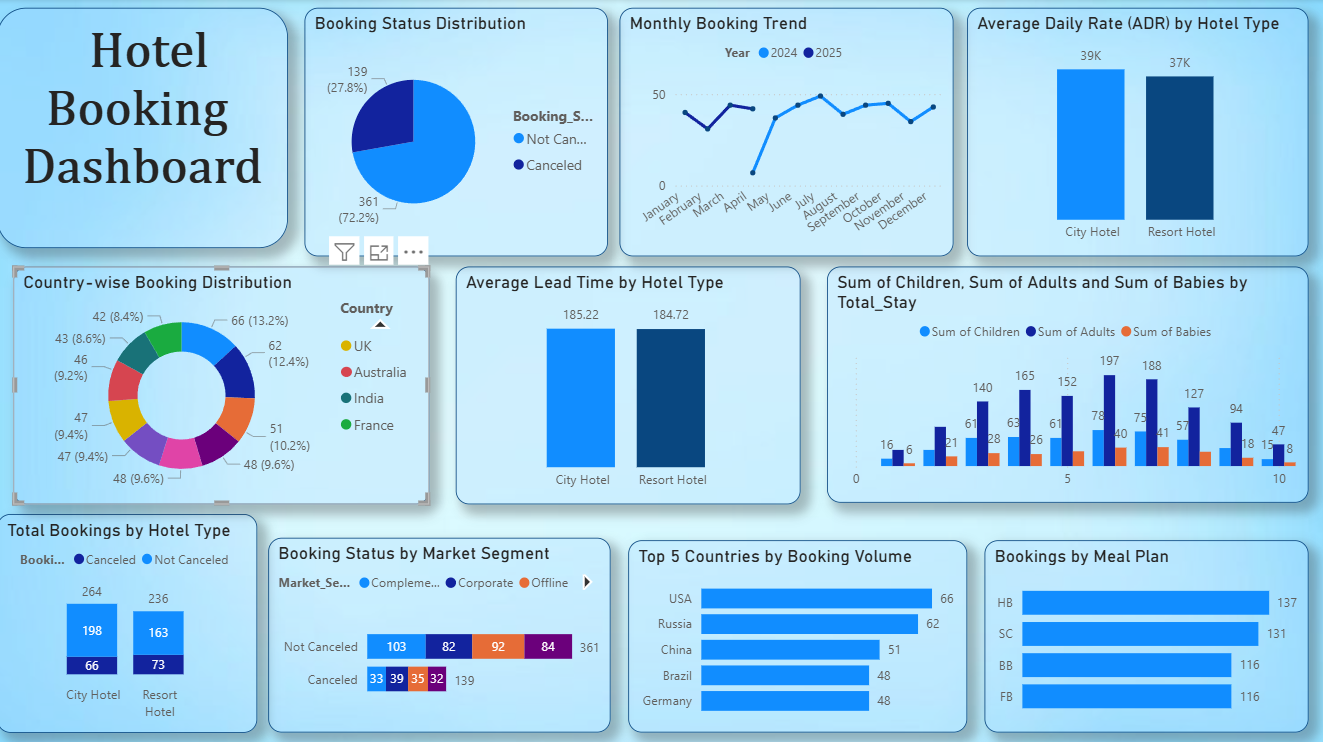

The page's visual inventory and layout, read from the dashboard file:
{"tool":"powerbi","page":{"name":"Page 2","canvas":[1280,720],"ordinal":1},"visuals":[{"type":"columnChart","title":"Total Bookings by Hotel Type","fields":{"Y":["CountNonNull(Sheet1.Hotel_Type)"],"Category":["Sheet1.Hotel_Type"],"Series":["Sheet1.Booking_Status"]},"box":[0,8.5,247.6,240.2],"z":0},{"type":"pieChart","title":"Booking Status Distribution","fields":{"Category":["Sheet1.Booking_Status"],"Y":["CountNonNull(Sheet1.Booking_Status)"]},"box":[262.1,8.9,292.5,239.3],"z":1000},{"type":"lineChart","title":"Monthly Booking Trend","fields":{"Category":["Sheet1.Arrival_Date.Variation.Date Hierarchy.Month"],"Y":["CountNonNull(Sheet1.Booking_Status)"],"Series":["Sheet1.Arrival_Date.Variation.Date Hierarchy.Year"]},"box":[569.8,8.9,321.6,239.3],"z":2000},{"type":"donutChart","title":"Country-wise Booking Distribution","fields":{"Category":["Sheet1.Country"],"Y":["CountNonNull(Sheet1.Booking_Status)"]},"box":[0,258.5,401.2,229.3],"z":3000},{"type":"clusteredColumnChart","title":"Average Lead Time by Hotel Type","fields":{"Category":["Sheet1.Hotel_Type"],"Y":["Avg(Sheet1.Lead_Time)"]},"box":[425.5,258.3,333,229.2],"z":4000},{"type":"barChart","title":"Booking Status by Market Segment","fields":{"Y":["CountNonNull(Sheet1.Booking_Status)"],"Series":["Sheet1.Market_Segment"],"Category":["Sheet1.Booking_Status"]},"box":[8.9,505.3,429.3,195],"z":5000},{"type":"barChart","title":"Bookings by Meal Plan","fields":{"Category":["Sheet1.Meal"],"Y":["Count(Sheet1.Booking_ID)"]},"box":[911.8,505.3,353.3,195],"z":6000},{"type":"barChart","title":"Top 5 Countries by Booking Volume ","fields":{"Category":["Sheet1.Country"],"Y":["CountNonNull(Sheet1.Booking_Status)"]},"box":[458.4,505.3,431.8,195],"z":7000},{"type":"columnChart","title":"Average Daily Rate (ADR) by Hotel Type","fields":{"Category":["Sheet1.Hotel_Type"],"Y":["Sum(Sheet1.ADR)"]},"box":[919.4,8.9,345.7,239.3],"z":8000},{"type":"clusteredColumnChart","fields":{"Y":["Sum(Sheet1.Children)","Sum(Sheet1.Adults)","Sum(Sheet1.Babies)"],"Category":["Sheet1.Total_Stay"]},"box":[776.3,257.1,488.8,229.2],"z":9000}]}

Visuals, with their boxes in screenshot pixels (x1, y1, x2, y2), scaled from the page's 1280x720 canvas onto the 1323x742 screenshot:
"Total Bookings by Hotel Type" columnChart: left=0, top=9, right=256, bottom=256
"Booking Status Distribution" pieChart: left=271, top=9, right=573, bottom=256
"Monthly Booking Trend" lineChart: left=589, top=9, right=921, bottom=256
"Country-wise Booking Distribution" donutChart: left=0, top=266, right=415, bottom=503
"Average Lead Time by Hotel Type" clusteredColumnChart: left=440, top=266, right=784, bottom=502
"Booking Status by Market Segment" barChart: left=9, top=521, right=453, bottom=722
"Bookings by Meal Plan" barChart: left=942, top=521, right=1308, bottom=722
"Top 5 Countries by Booking Volume " barChart: left=474, top=521, right=920, bottom=722
"Average Daily Rate (ADR) by Hotel Type" columnChart: left=950, top=9, right=1308, bottom=256
clusteredColumnChart - Sum(Sheet1.Children) x Sum(Sheet1.Adults): left=802, top=265, right=1308, bottom=501
